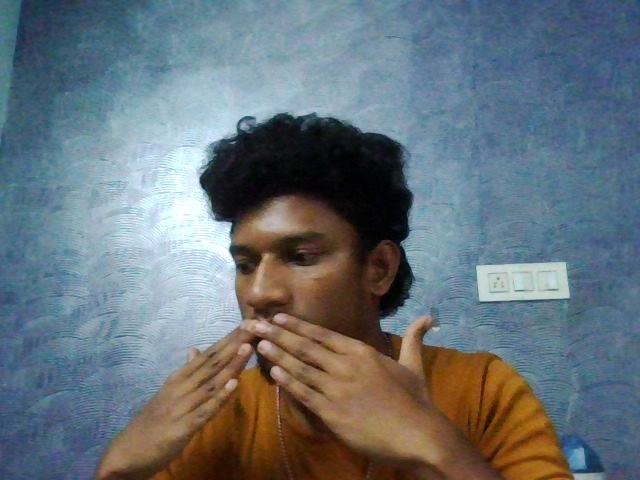thanks: (86, 290, 495, 472)
